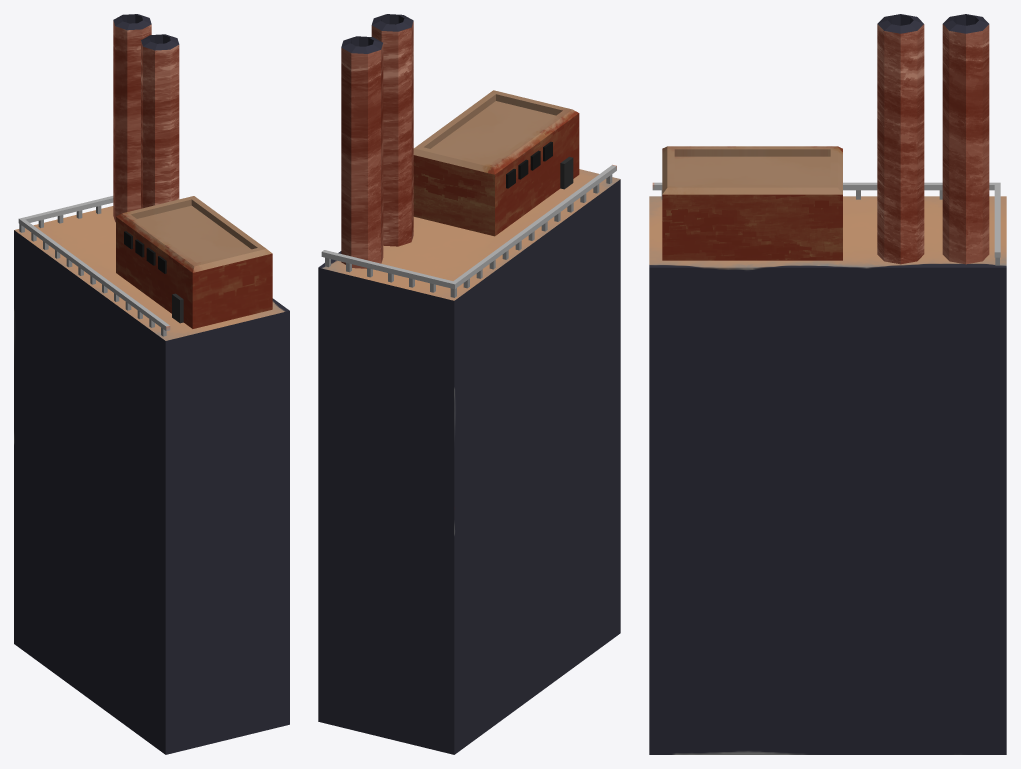
Rendered from Factory.glb.
3 views of the same model, side by side, from view 1: azimuth 30°, elevation 25°; view 2: azimuth 150°, elevation 25°; view 3: azimuth 270°, elevation 25° (orthographic). The views are drawn at different scales.
Visible parts, largest first — view 1: FactoryBuilding; view 2: FactoryBuilding; view 3: FactoryBuilding.
Part boxes in pixels (<box>): FactoryBuilding: <box>14,14,289,754</box>; FactoryBuilding: <box>318,14,620,754</box>; FactoryBuilding: <box>649,14,1006,754</box>.
Bounding box in the file's own units: 0.319 × 1.5 × 0.6748.
1 material, 1 textured.
